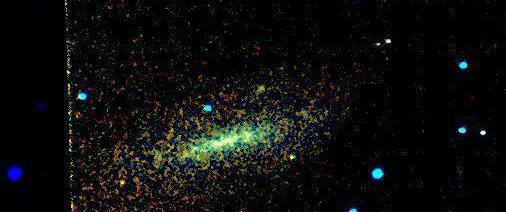star: (109, 163, 139, 193)
